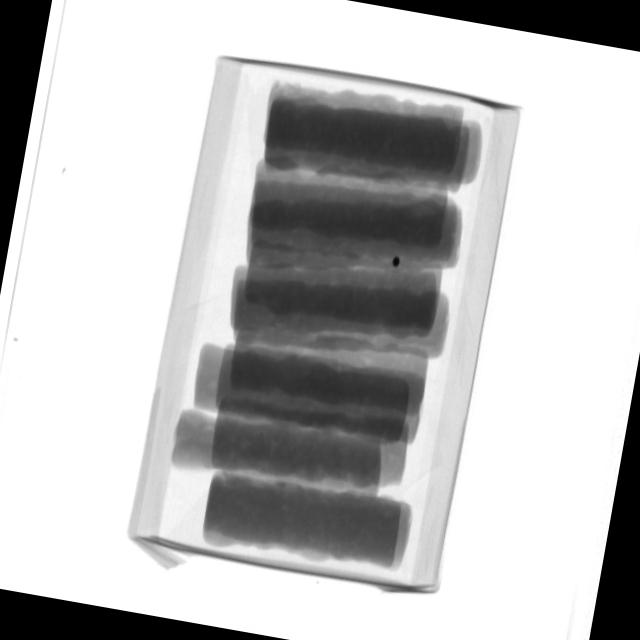ym: (393, 257, 402, 268)
